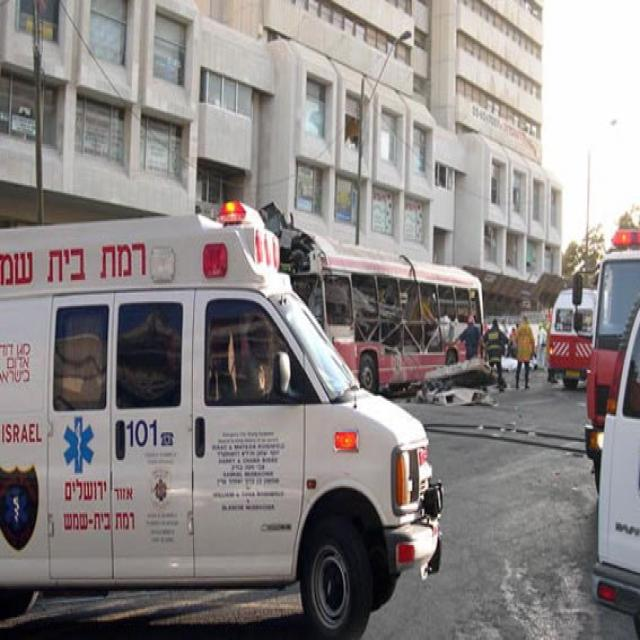emergency-vehicle: (0, 211, 445, 635)
